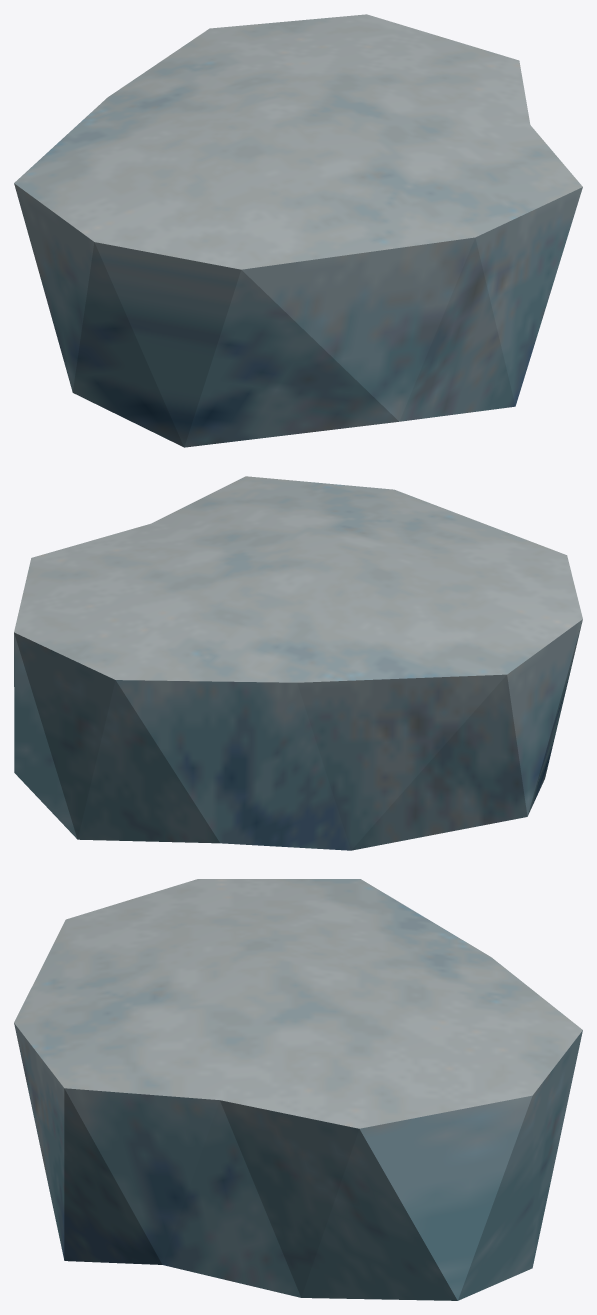
3 views of the same model, one above another, from view 1: azimuth 30°, elevation 25°; view 2: azimuth 150°, elevation 25°; view 3: azimuth 270°, elevation 25° (orthographic). The views are drawn at different scales.
Visible parts, largest first — view 1: a10; view 2: a10; view 3: a10.
Boxes of the visible parts, <box> form: a10: <box>14,14,582,447</box>; a10: <box>14,476,582,850</box>; a10: <box>14,879,582,1300</box>.
Size of the model in its own units: 344 by 152 by 332.
